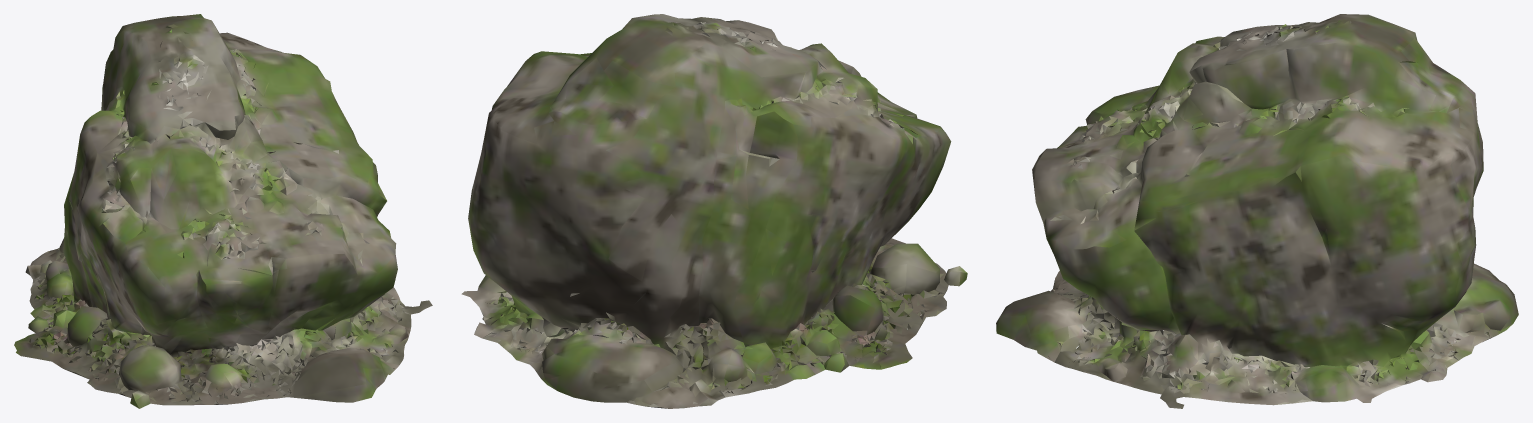
File: BoulderScan.glb
3 renders of one model, left to right at view 1: azimuth 30°, elevation 25°; view 2: azimuth 150°, elevation 25°; view 3: azimuth 270°, elevation 25°, orthographic. The views are drawn at different scales.
Parts seen in each view (by area): view 1: BoulderScan; view 2: BoulderScan; view 3: BoulderScan.
Part boxes in pixels (x1,y1,x2,y2): BoulderScan: [14, 14, 432, 408]; BoulderScan: [461, 14, 967, 408]; BoulderScan: [996, 14, 1518, 408].
Size of the model in its own units: 1.89 by 1.32 by 2.15.
1 material, 1 textured.
